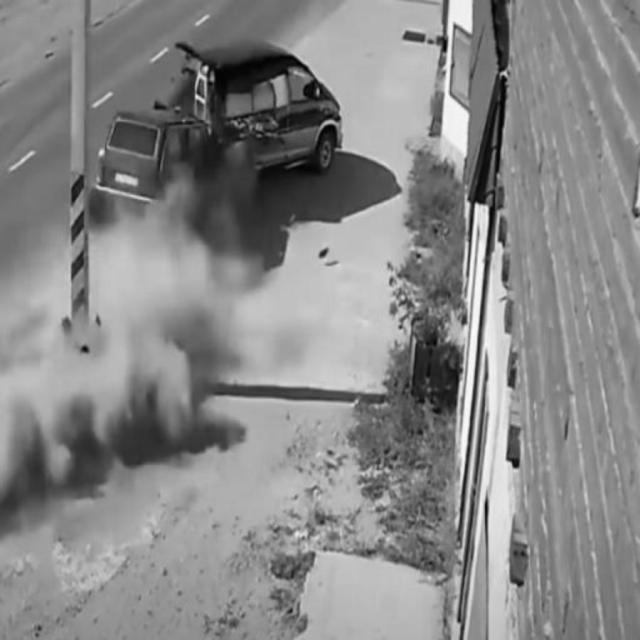accident: (96, 38, 346, 256)
